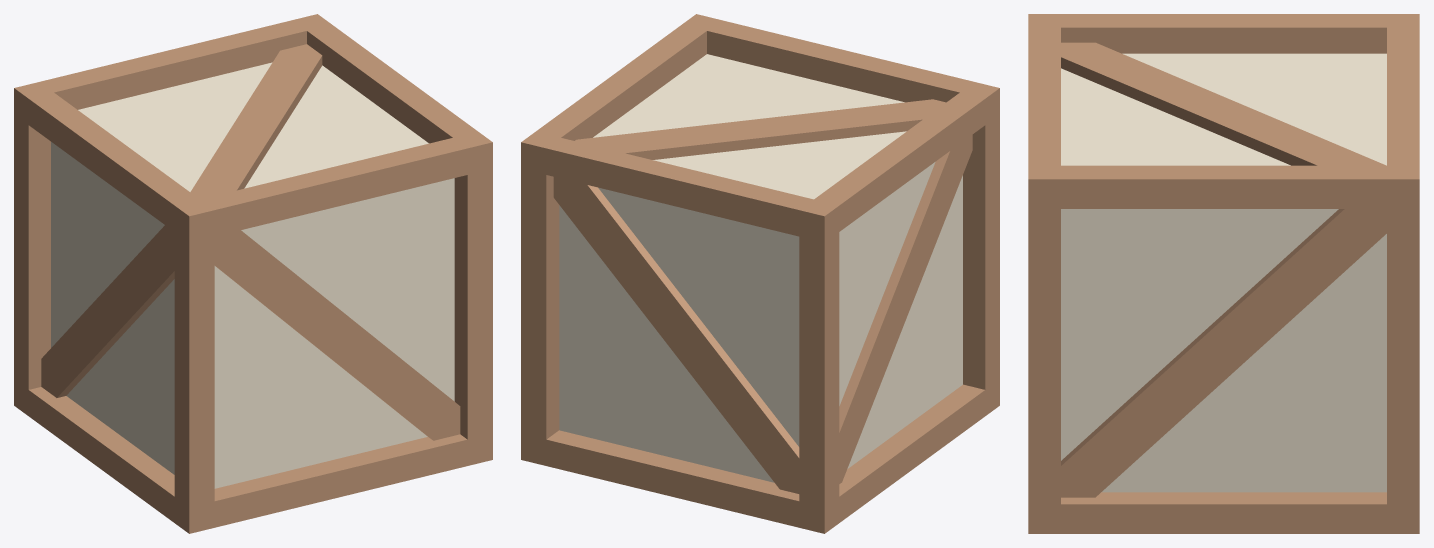
Rendered from crate.fbx.
The picture shows the model from 3 angles, left to right: view 1: azimuth 30°, elevation 25°; view 2: azimuth 150°, elevation 25°; view 3: azimuth 270°, elevation 25°; orthographic projection. The views are drawn at different scales.
Parts seen in each view (by area): view 1: Cube.002, Cube.018, Cube.003, Cube.014, Cube.006, Cube.011, Cube.004, Cube.013, Cube.009, Cube, Cube.008, Cube.015 (+2 smaller); view 2: Cube.002, Cube.016, Cube.006, Cube.013, Cube.003, Cube.012, Cube, Cube.005, Cube.015, Cube.014, Cube.009, Cube.008 (+2 smaller); view 3: Cube.002, Cube.001, Cube.010, Cube.007, Cube.008, Cube.015, Cube.011, Cube.012, Cube.003, Cube.006.
Boxes of the visible parts, x1,y1,x2,y2 form: Cube.002: (51, 62, 454, 488); Cube.018: (214, 230, 460, 440); Cube.003: (174, 131, 492, 242); Cube.014: (174, 232, 214, 507); Cube.006: (14, 14, 331, 124); Cube.011: (454, 169, 492, 439); Cube.004: (214, 434, 467, 527); Cube.013: (14, 114, 50, 389); Cube.009: (14, 379, 214, 533); Cube: (41, 225, 174, 397); Cube.008: (28, 92, 199, 231); Cube.015: (190, 44, 322, 199); Cube.002: (559, 54, 962, 482); Cube.016: (553, 177, 799, 493); Cube.006: (521, 131, 839, 242); Cube.013: (799, 232, 839, 507); Cube.003: (682, 14, 999, 124); Cube.012: (521, 169, 559, 439); Cube: (839, 134, 972, 483); Cube.005: (546, 430, 799, 527); Cube.015: (575, 99, 945, 159); Cube.014: (963, 114, 999, 389); Cube.009: (799, 379, 999, 533); Cube.008: (814, 92, 985, 231); Cube.002: (1061, 53, 1386, 492); Cube.001: (1061, 209, 1386, 497); Cube.010: (1028, 492, 1419, 533); Cube.007: (1061, 165, 1386, 208); Cube.008: (1061, 14, 1386, 53); Cube.015: (1061, 42, 1385, 165); Cube.011: (1028, 209, 1060, 504); Cube.012: (1387, 209, 1419, 504); Cube.003: (1028, 14, 1060, 208); Cube.006: (1387, 14, 1419, 208).
Bounding box in the file's own units: 480 × 480 × 480.
